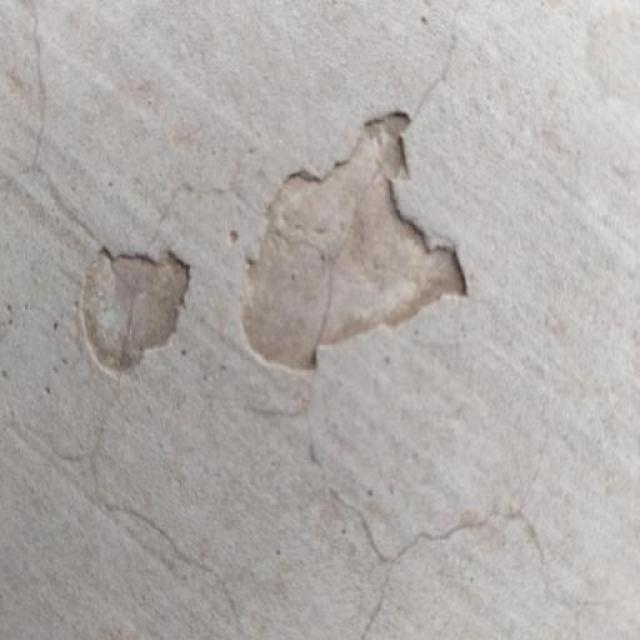D10: (239, 109, 469, 371), (76, 248, 191, 372)
